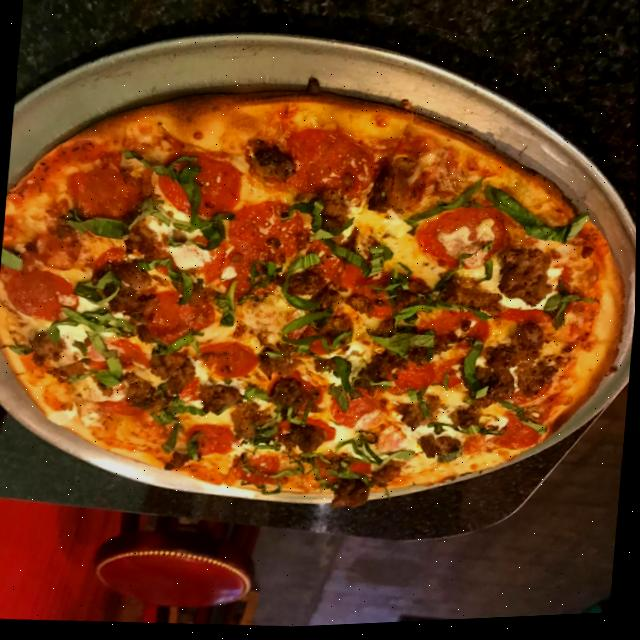basil: (110, 145, 242, 257), (273, 194, 393, 286), (478, 181, 595, 257), (400, 177, 492, 238), (45, 300, 141, 349), (269, 306, 357, 359), (430, 236, 495, 301), (62, 328, 129, 391), (132, 254, 200, 311), (279, 247, 327, 320), (360, 327, 438, 368), (390, 302, 492, 331), (60, 205, 134, 244), (539, 292, 601, 336), (328, 427, 387, 471), (149, 396, 220, 431), (457, 337, 493, 404), (70, 267, 125, 310), (493, 401, 549, 442), (237, 257, 278, 312), (322, 358, 360, 416), (423, 419, 504, 444), (149, 327, 205, 363), (297, 451, 339, 496), (238, 417, 285, 457), (370, 266, 415, 304), (212, 281, 242, 332), (328, 460, 378, 490), (242, 385, 282, 418), (267, 454, 307, 484), (403, 392, 436, 427), (241, 476, 285, 501), (376, 448, 419, 473), (161, 419, 187, 458), (287, 397, 317, 428), (472, 262, 497, 294), (0, 243, 26, 272), (186, 431, 206, 464), (0, 338, 33, 358), (371, 378, 397, 394)
pepperoni: (274, 123, 378, 202), (411, 203, 509, 281), (154, 148, 246, 222), (60, 164, 146, 233), (225, 198, 310, 267), (141, 286, 220, 351), (3, 267, 81, 326), (305, 232, 378, 293), (384, 355, 471, 405), (354, 273, 431, 327), (153, 234, 225, 291), (492, 286, 573, 331), (414, 310, 492, 356), (218, 246, 282, 302), (327, 387, 392, 436), (197, 340, 262, 384), (295, 313, 355, 360), (267, 370, 328, 416), (86, 334, 152, 374), (489, 418, 546, 458), (312, 451, 373, 487), (232, 451, 282, 492), (276, 416, 339, 448), (187, 422, 238, 459), (507, 385, 552, 411), (97, 398, 146, 418), (178, 374, 204, 407)
pizza: (0, 47, 639, 544)
